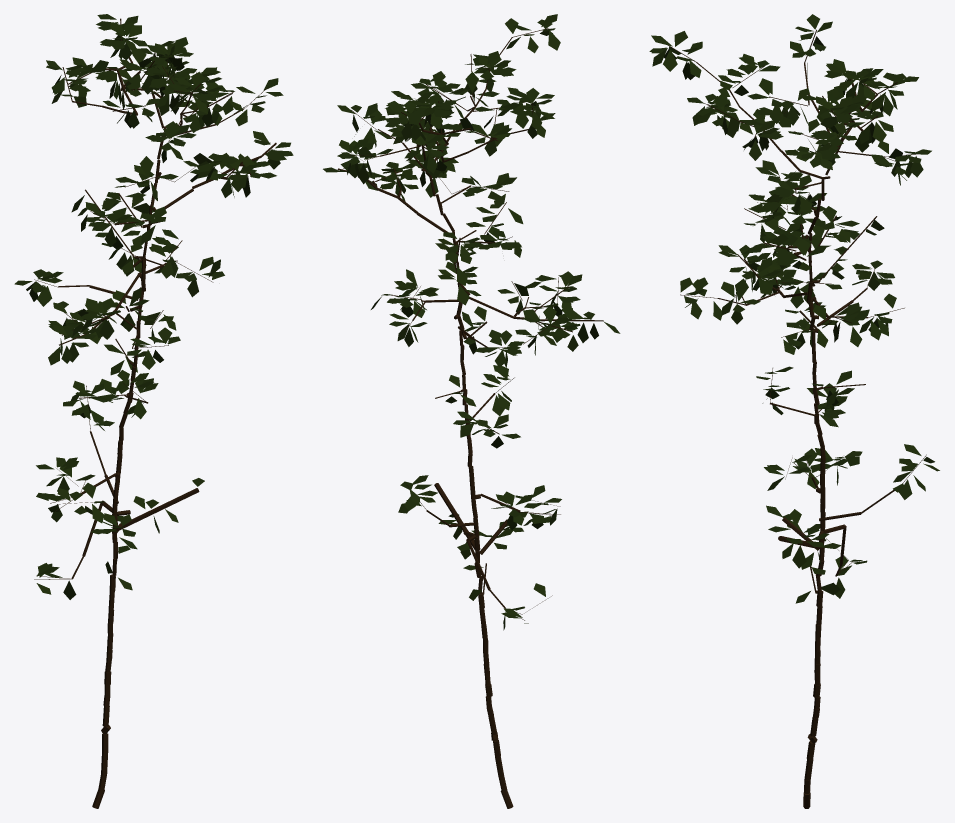
File: 2022_tree_361.obj
3 views of the same model, side by side, from view 1: azimuth 30°, elevation 25°; view 2: azimuth 150°, elevation 25°; view 3: azimuth 270°, elevation 25° (orthographic). The views are drawn at different scales.
Visible parts, largest first — view 1: Leaves, TrunkAndBranches; view 2: Leaves, TrunkAndBranches; view 3: Leaves, TrunkAndBranches.
Part boxes in pixels (x1,y1,x2,y2): Leaves: (14, 14, 293, 599); TrunkAndBranches: (34, 18, 276, 808); Leaves: (323, 14, 620, 630); TrunkAndBranches: (337, 28, 603, 808); Leaves: (649, 14, 939, 603); TrunkAndBranches: (668, 29, 926, 808).
Bounding box in the file's own units: 4.01 × 10.64 × 3.58.
